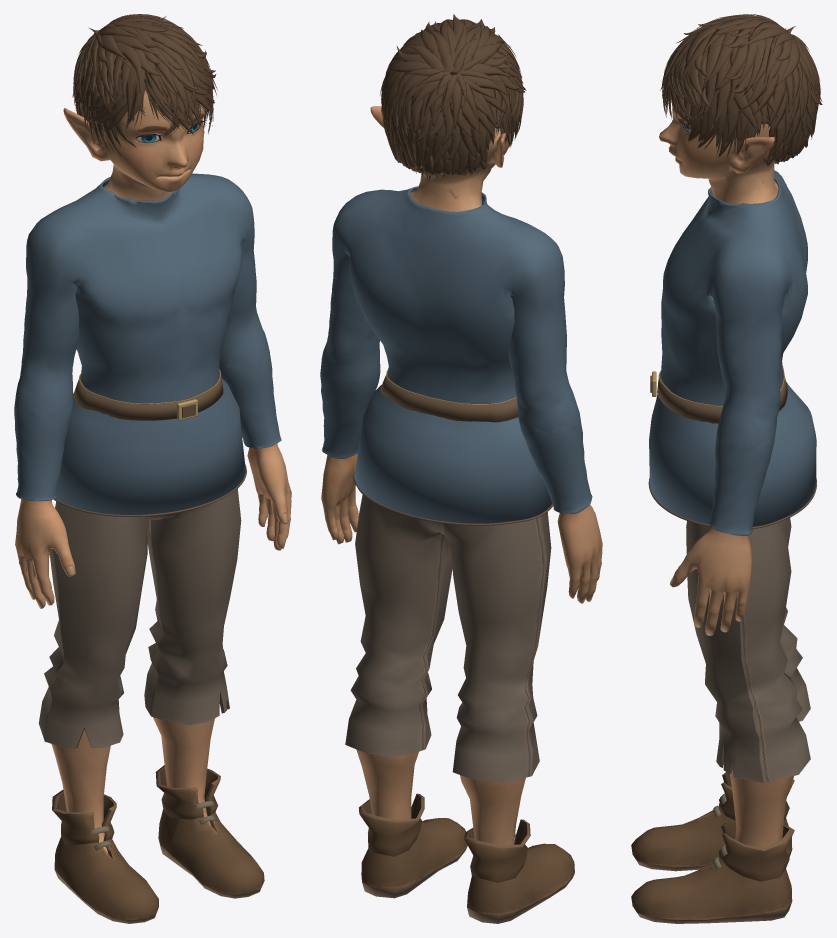
Rendered from boy-sporty.glb.
The picture shows the model from 3 angles, left to right: view 1: azimuth 30°, elevation 25°; view 2: azimuth 150°, elevation 25°; view 3: azimuth 270°, elevation 25°; orthographic projection.
Parts seen in each view (by area): view 1: sportive / boy / gentle / starter / fitted long-sleeve tunic, sportive / boy / gentle / base / boy • Pant_043__Mt_Lower_04, sportive / boy / gentle / male / boy • continuous skin, sportive / boy / gentle / starter / continuous waist-fitted , sportive / boy / gentle / short / boy / short / boy / suppli, sportive / boy / gentle / starter / flat fitted leather wais; view 2: sportive / boy / gentle / base / boy • Pant_043__Mt_Lower_04, sportive / boy / gentle / starter / fitted long-sleeve tunic, sportive / boy / gentle / starter / continuous waist-fitted , sportive / boy / gentle / short / boy / short / boy / suppli, sportive / boy / gentle / male / boy • continuous skin, sportive / boy / gentle / starter / flat fitted leather wais, sportive / boy / gentle / starter / bound hem; view 3: sportive / boy / gentle / base / boy • Pant_043__Mt_Lower_04, sportive / boy / gentle / starter / fitted long-sleeve tunic, sportive / boy / gentle / short / boy / short / boy / suppli, sportive / boy / gentle / male / boy • continuous skin, sportive / boy / gentle / starter / continuous waist-fitted , sportive / boy / gentle / starter / flat fitted leather wais, sportive / boy / gentle / starter / bound hem.
Part boxes in pixels (bbox=[...]): sportive / boy / gentle / starter / fitted long-sleeve tunic: bbox=[14, 173, 281, 501]; sportive / boy / gentle / base / boy • Pant_043__Mt_Lower_04: bbox=[38, 488, 264, 923]; sportive / boy / gentle / male / boy • continuous skin: bbox=[15, 90, 291, 852]; sportive / boy / gentle / starter / continuous waist-fitted : bbox=[55, 378, 245, 514]; sportive / boy / gentle / short / boy / short / boy / suppli: bbox=[72, 14, 217, 156]; sportive / boy / gentle / starter / flat fitted leather wais: bbox=[73, 371, 223, 420]; sportive / boy / gentle / base / boy • Pant_043__Mt_Lower_04: bbox=[345, 495, 574, 923]; sportive / boy / gentle / starter / fitted long-sleeve tunic: bbox=[320, 186, 592, 513]; sportive / boy / gentle / starter / continuous waist-fitted : bbox=[354, 384, 552, 523]; sportive / boy / gentle / short / boy / short / boy / suppli: bbox=[379, 14, 526, 181]; sportive / boy / gentle / male / boy • continuous skin: bbox=[321, 106, 602, 844]; sportive / boy / gentle / starter / flat fitted leather wais: bbox=[380, 371, 518, 422]; sportive / boy / gentle / starter / bound hem: bbox=[353, 472, 553, 525]; sportive / boy / gentle / base / boy • Pant_043__Mt_Lower_04: bbox=[631, 518, 810, 923]; sportive / boy / gentle / starter / fitted long-sleeve tunic: bbox=[660, 170, 807, 535]; sportive / boy / gentle / short / boy / short / boy / suppli: bbox=[660, 14, 822, 166]; sportive / boy / gentle / male / boy • continuous skin: bbox=[659, 96, 793, 848]; sportive / boy / gentle / starter / continuous waist-fitted : bbox=[649, 381, 816, 526]; sportive / boy / gentle / starter / flat fitted leather wais: bbox=[657, 367, 787, 423]; sportive / boy / gentle / starter / bound hem: bbox=[648, 478, 816, 528].
Size of the model in its own units: 0.5778 by 1.79 by 0.3586.
17 materials, 8 textured.
